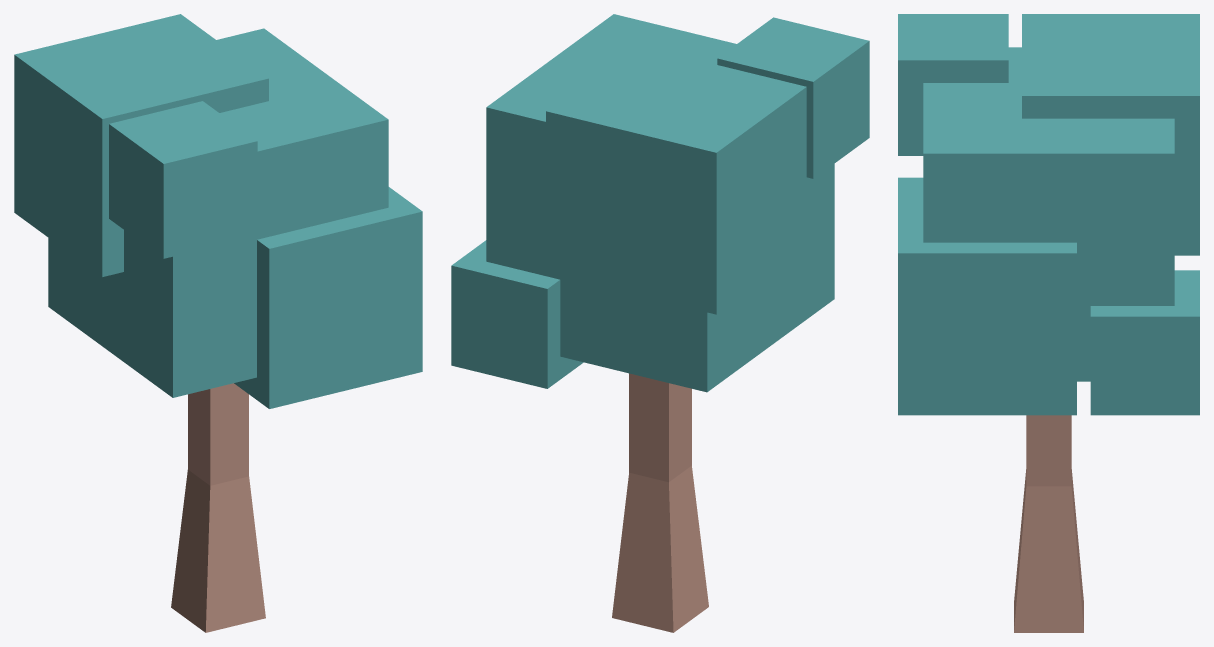
Rendered from tree_blocks_dark.glb.
The picture shows the model from 3 angles, left to right: view 1: azimuth 30°, elevation 25°; view 2: azimuth 150°, elevation 25°; view 3: azimuth 270°, elevation 25°; orthographic projection. The views are drawn at different scales.
Parts seen in each view (by area): view 1: tree_blocks_dark; view 2: tree_blocks_dark; view 3: tree_blocks_dark.
Part boxes in pixels (x1,y1,x2,y2): tree_blocks_dark: (14,14,422,632); tree_blocks_dark: (451,14,869,632); tree_blocks_dark: (898,14,1199,632).
Bounding box in the file's own units: 0.6 × 1.19 × 0.6.
